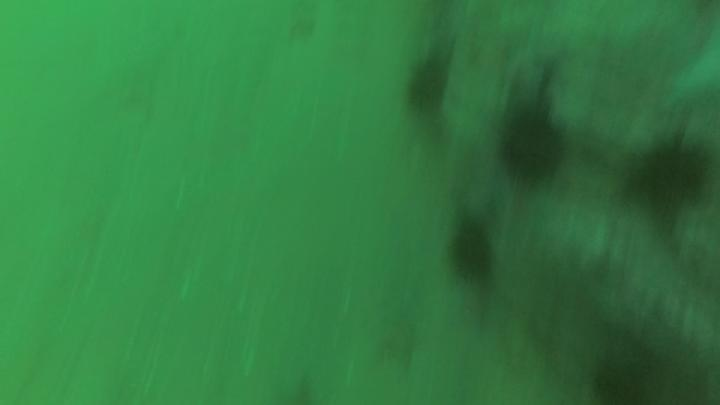echinus: (631, 137, 705, 221), (497, 107, 564, 191), (448, 216, 504, 290), (404, 51, 456, 123), (587, 354, 648, 405)
